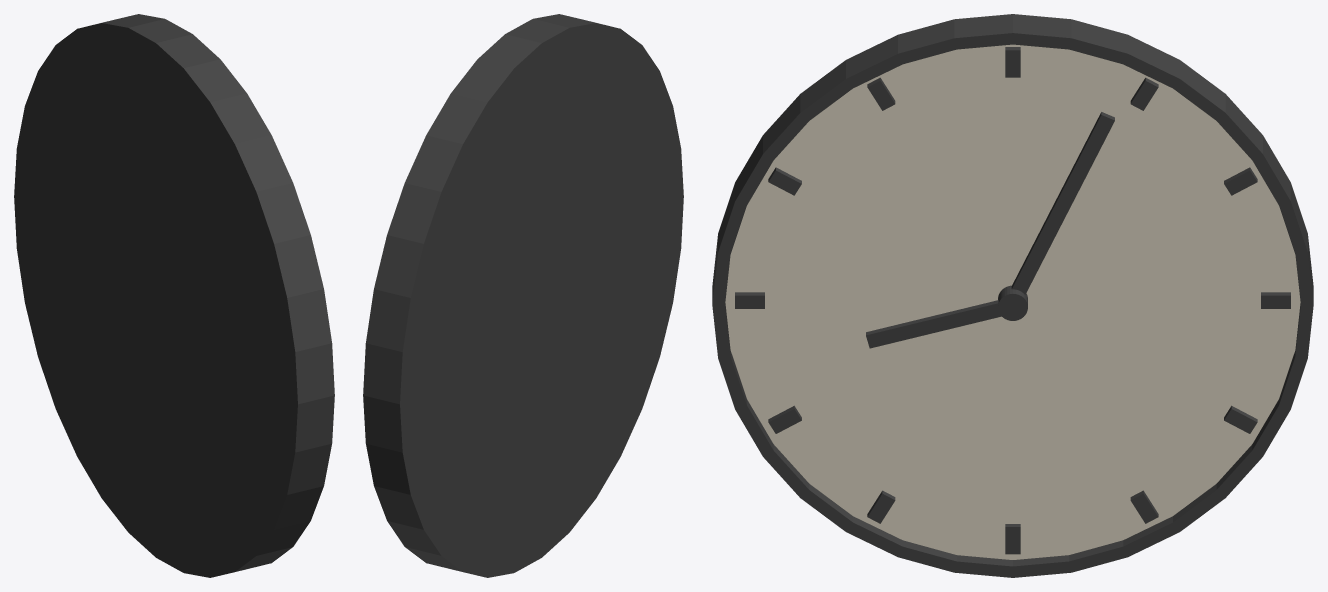
Rendered from clock.fbx.
3 views of the same model, side by side, from view 1: azimuth 30°, elevation 25°; view 2: azimuth 150°, elevation 25°; view 3: azimuth 270°, elevation 25° (orthographic). The views are drawn at different scales.
Visible parts, largest first — view 1: Cylinder; view 2: Cylinder; view 3: Cylinder, Cube.001, Cube, Cylinder.001.
Part boxes in pixels (<box>): Cylinder: <box>14,14,334,577</box>; Cylinder: <box>363,14,683,577</box>; Cylinder: <box>712,14,1313,577</box>; Cube.001: <box>1011,112,1114,294</box>; Cube: <box>866,300,1001,348</box>; Cylinder.001: <box>998,285,1027,320</box>.
Size of the model in its own units: 3.3 by 40 by 40.
